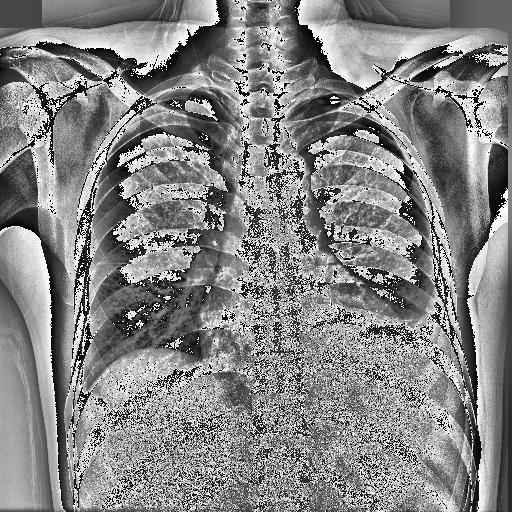10- Pleural effusion: (314, 311, 452, 364), (388, 286, 458, 380), (375, 285, 449, 360), (74, 366, 96, 412), (76, 376, 96, 408)
11- Pleural thickening: (74, 366, 96, 412), (76, 376, 96, 408)
3- Cardiomegaly: (198, 290, 418, 373)
